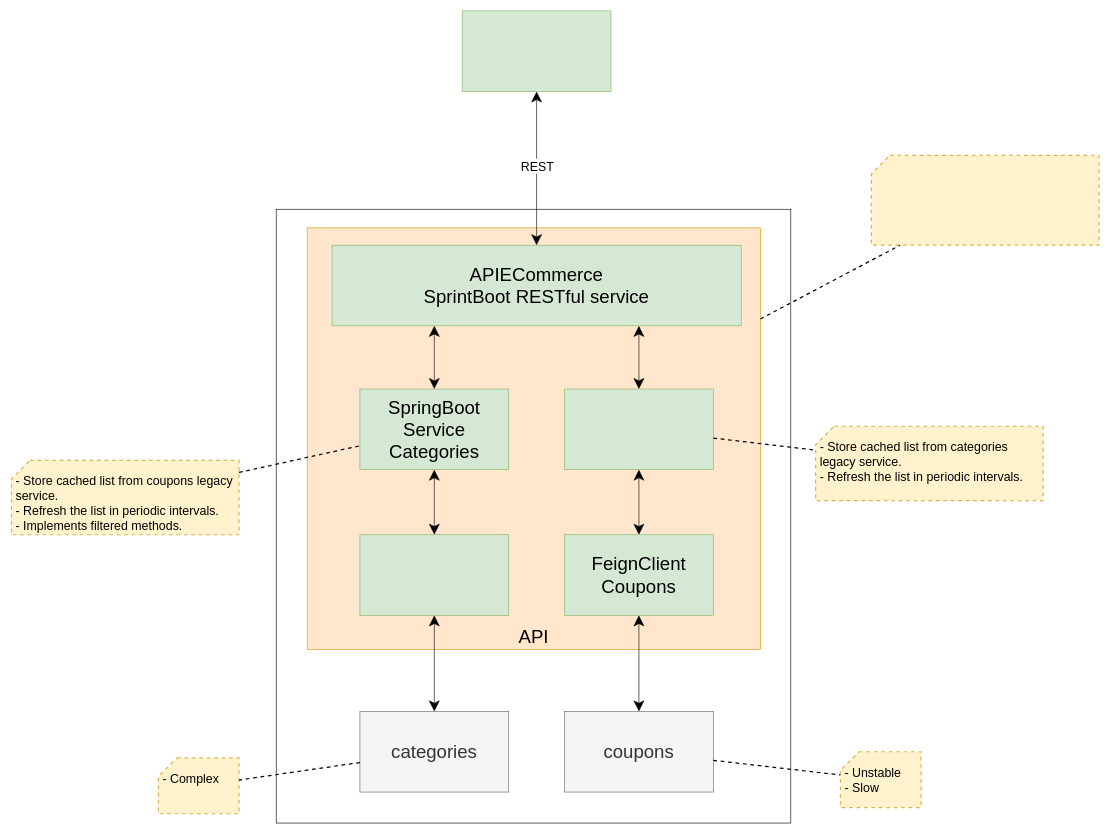
This 1110x834 diagram has some shape labels left out. The shapes that lost their labels are listed below. From the top down, each one's box as (x1, y1, x2, y2) in pixels, then its label:
(462, 10, 611, 91): e-commerce app (Mobile)
(870, 154, 1099, 246): - Java 1.8 - Apache Tomcat 9.0 (no needs EJB container and Java 8 compatible)
(564, 388, 713, 470): SpringBoot Service Coupons
(276, 209, 791, 823): Services
(359, 534, 509, 615): FeignClient Categories
